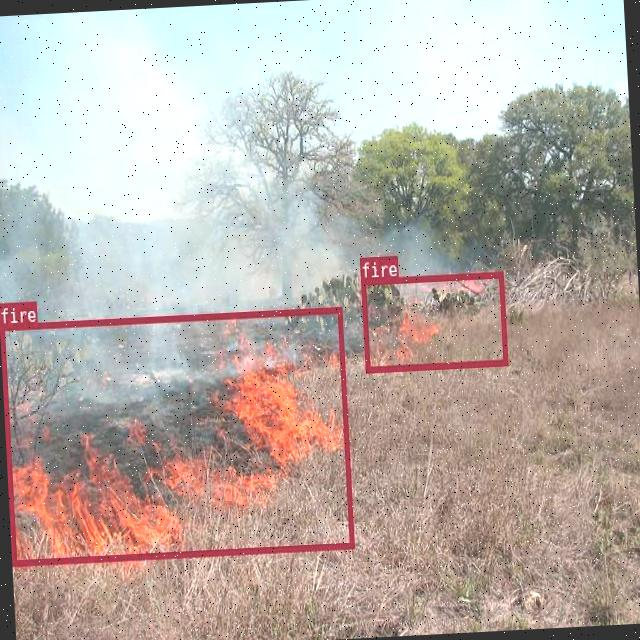fire: (0, 305, 354, 566), (359, 271, 506, 371)
